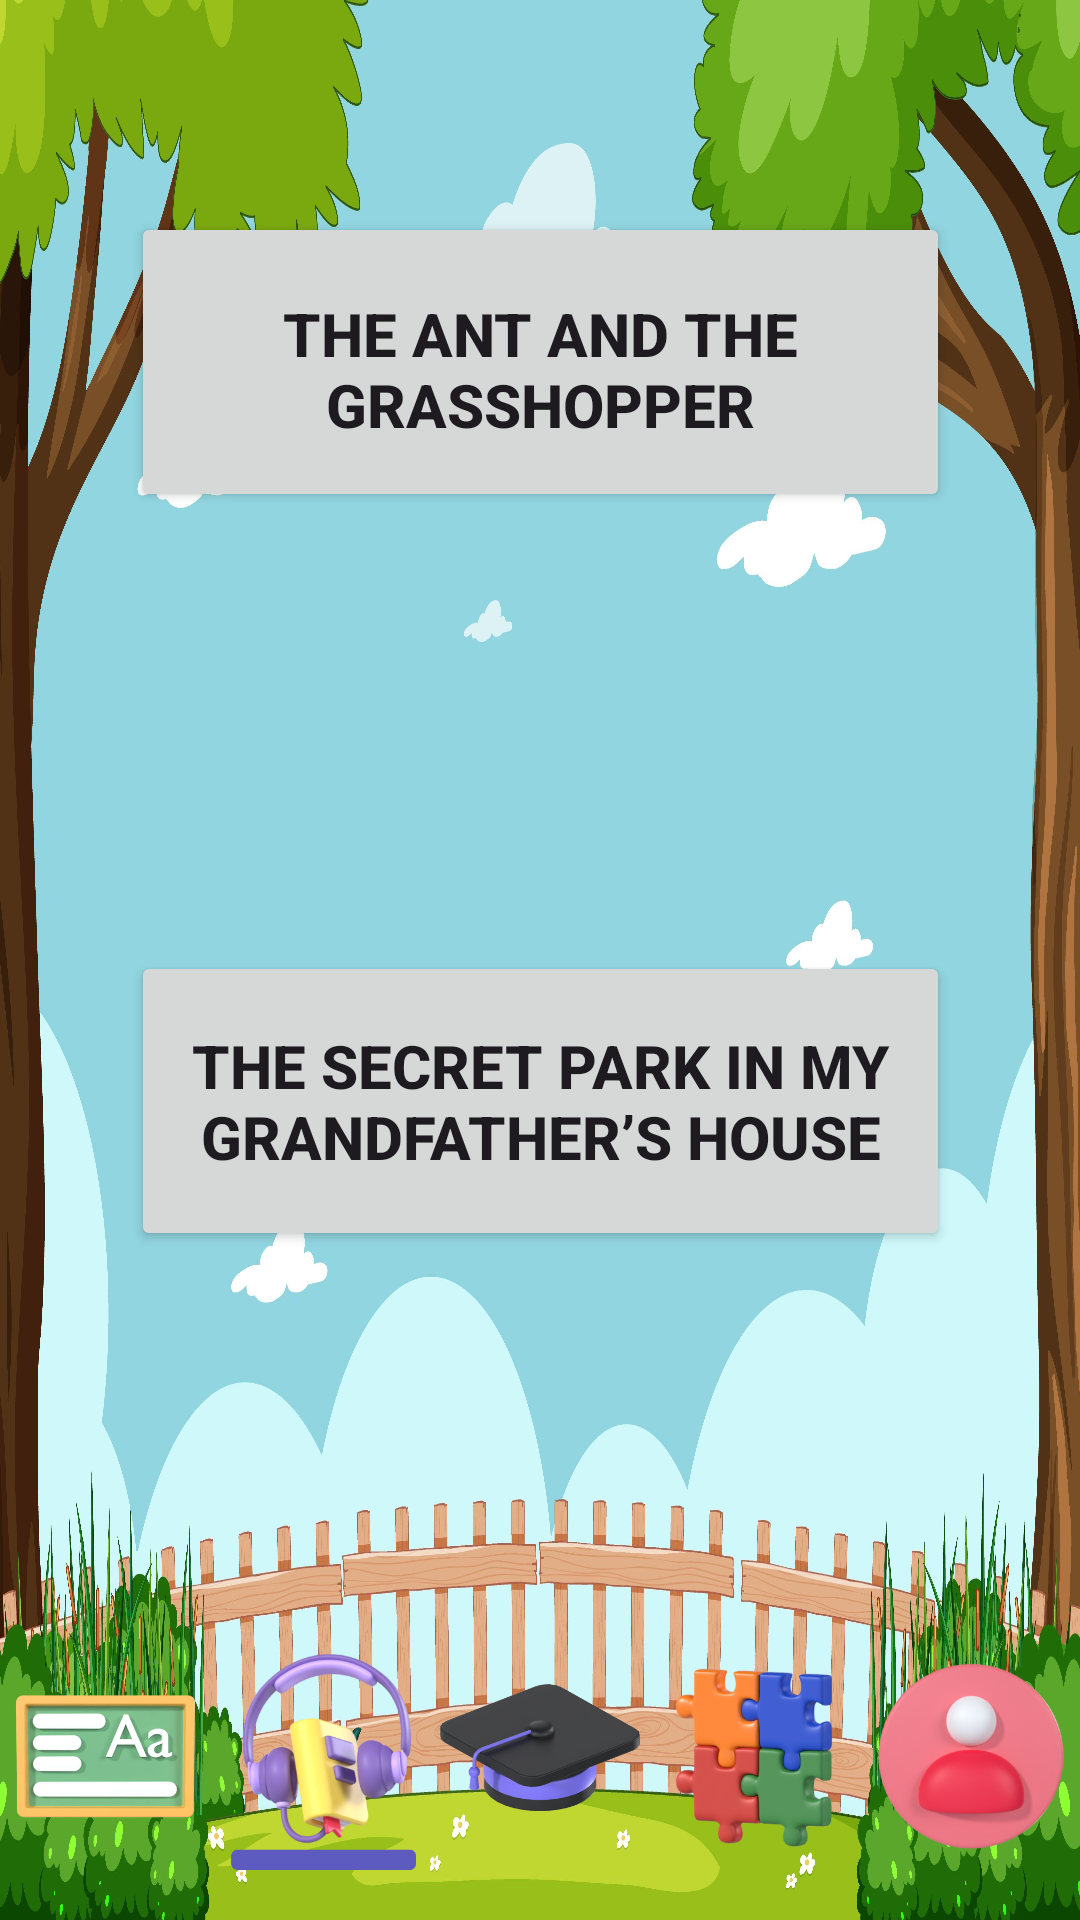

Icons on this 1080x1920 Android screen, each with the point to tap as (x=x, y=y):
bukuu: (x=324, y=1755)
game: (x=756, y=1755)
materi: (x=108, y=1755)
profil: (x=972, y=1755)
